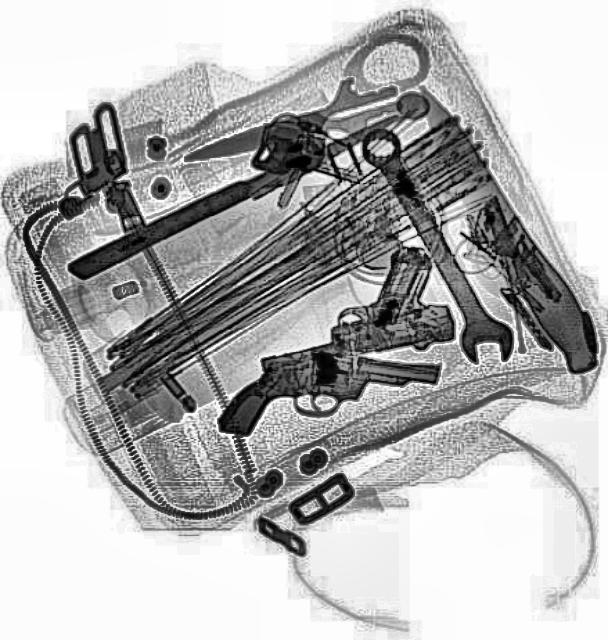Gun: (242, 238, 458, 378), (216, 340, 440, 452)
Knife: (404, 71, 606, 376), (64, 104, 404, 282), (173, 64, 407, 186)
Wrench: (348, 117, 522, 375)
